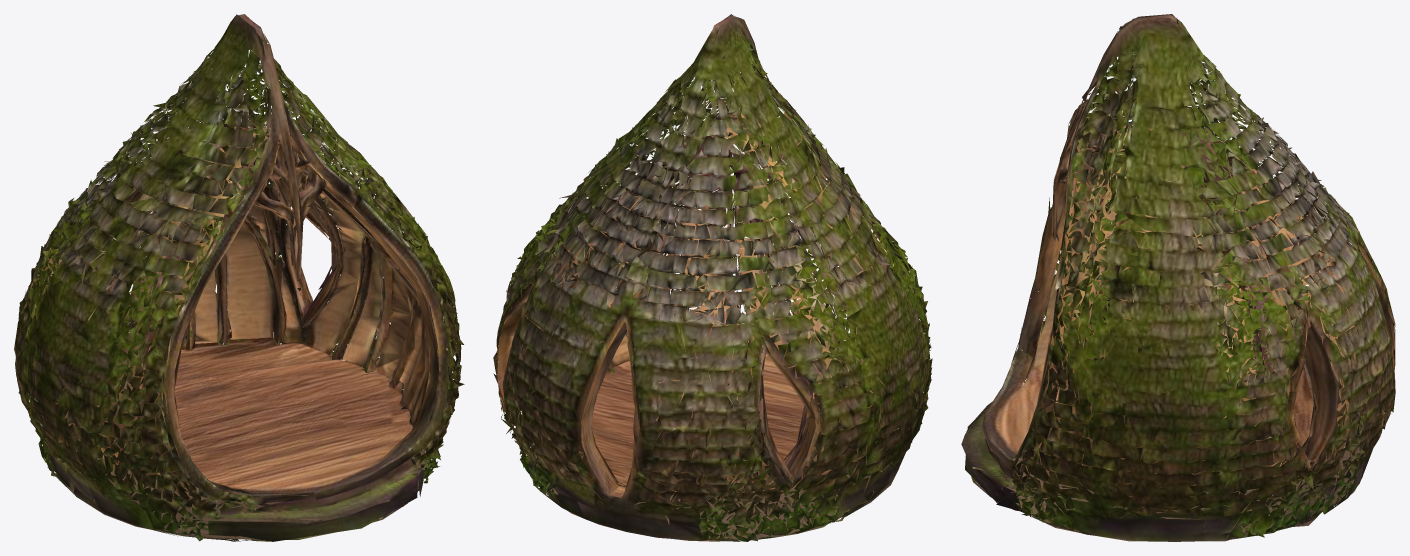
The model's file is Mosswood_Teardrop_Hou_town.glb.
The picture shows the model from 3 angles, left to right: view 1: azimuth 30°, elevation 25°; view 2: azimuth 150°, elevation 25°; view 3: azimuth 270°, elevation 25°; orthographic projection. The views are drawn at different scales.
Visible parts, largest first — view 1: Mosswood_Teardrop_Hou; view 2: Mosswood_Teardrop_Hou; view 3: Mosswood_Teardrop_Hou.
Boxes of the visible parts, x1,y1,x2,y2 form: Mosswood_Teardrop_Hou: [14, 14, 464, 541]; Mosswood_Teardrop_Hou: [493, 14, 932, 541]; Mosswood_Teardrop_Hou: [961, 14, 1395, 541].
Size of the model in its own units: 1.7 by 1.91 by 1.66.
Materials: 1 (1 with a texture image).
